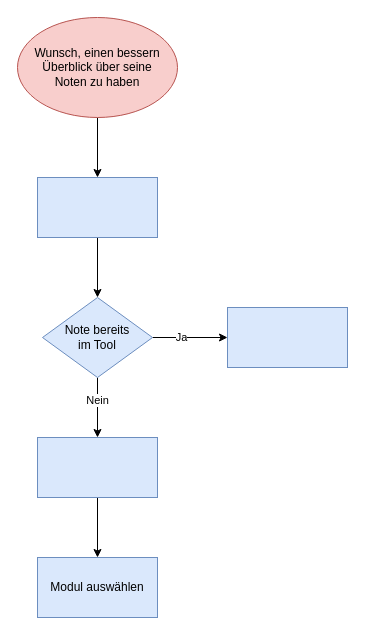
The diagram is 365 pixels wide and 635 high, and some of its shapes have lost their labels. The box of each missing label's shape, as (x1, y1, x2, y2) in pixels:
Neue Noten erhalten: (36, 176, 158, 238)
Neuen Eintrag erstellen: (36, 436, 158, 498)
